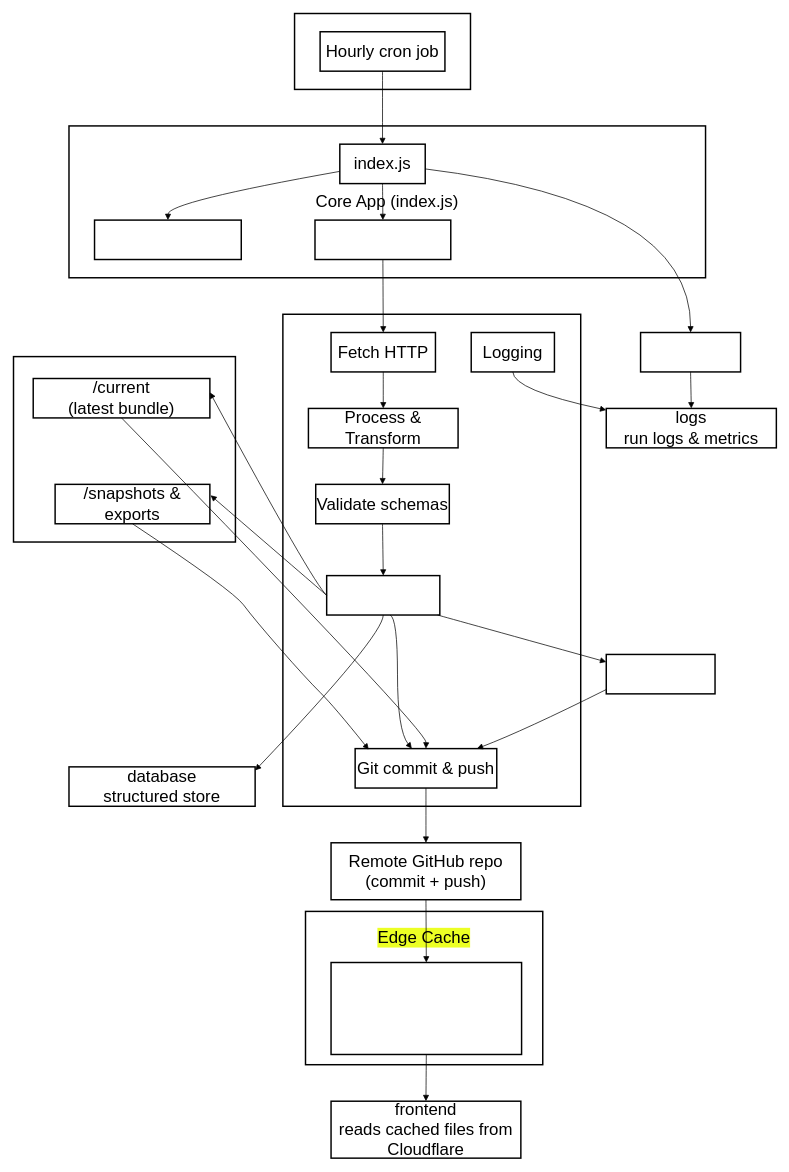
This 789x1172 diagram has some shape labels left out. The shapes that lost their labels are listed below. From the top down, each one's box as (x1, y1, x2, y2) in pixels, then its label:
(93, 219, 242, 260): startingAPIinfo.json
(314, 219, 451, 260): server_modules/*
(639, 331, 741, 372): runStats.js
(12, 356, 236, 542): fetchedDataFiles
(282, 313, 581, 807): Server modules
(326, 575, 440, 615): File & DB I/O
(605, 653, 715, 694): process.json
(330, 961, 522, 1055): Cloudflare Worker (caches '/fetchedDataFiles/current' & 'process.json')
